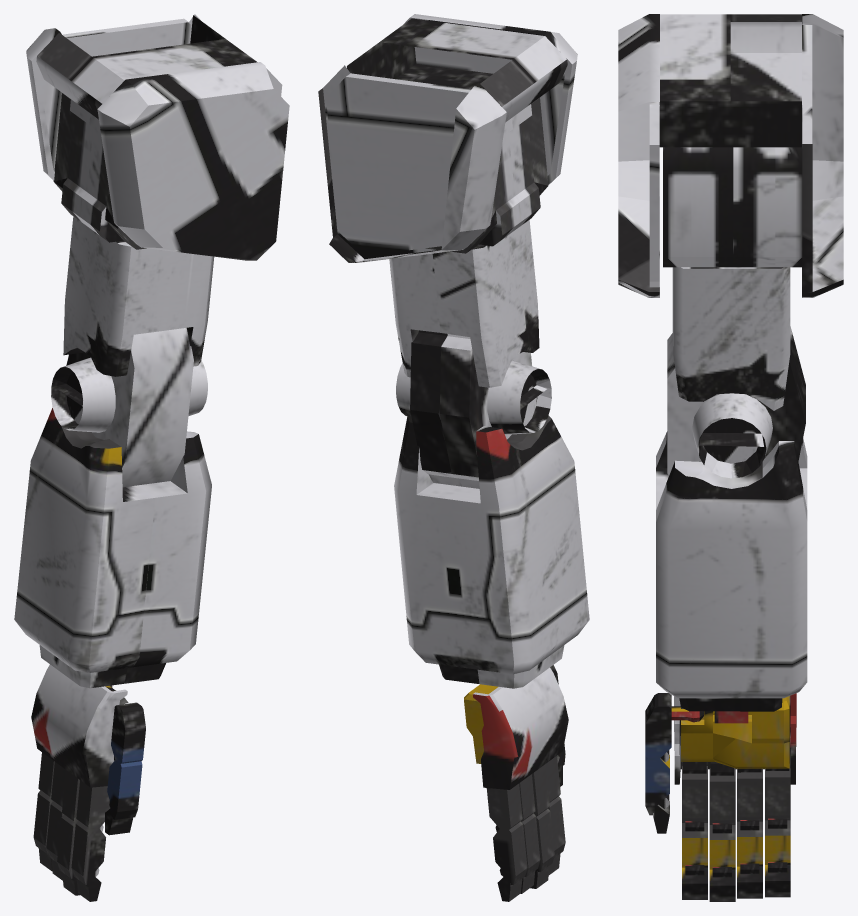
Rendered from hand1.obj.
3 views of the same model, side by side, from view 1: azimuth 30°, elevation 25°; view 2: azimuth 150°, elevation 25°; view 3: azimuth 270°, elevation 25° (orthographic). The views are drawn at different scales.
Parts seen in each view (by area): view 1: Gundam:polySurface666; view 2: Gundam:polySurface666; view 3: Gundam:polySurface666.
Boxes of the visible parts, x1,y1,x2,y2 form: Gundam:polySurface666: (14,14,289,901); Gundam:polySurface666: (318,14,589,901); Gundam:polySurface666: (618,14,843,901).
Bounding box in the file's own units: 3.15 × 12.02 × 2.73.
1 material, 1 textured.
